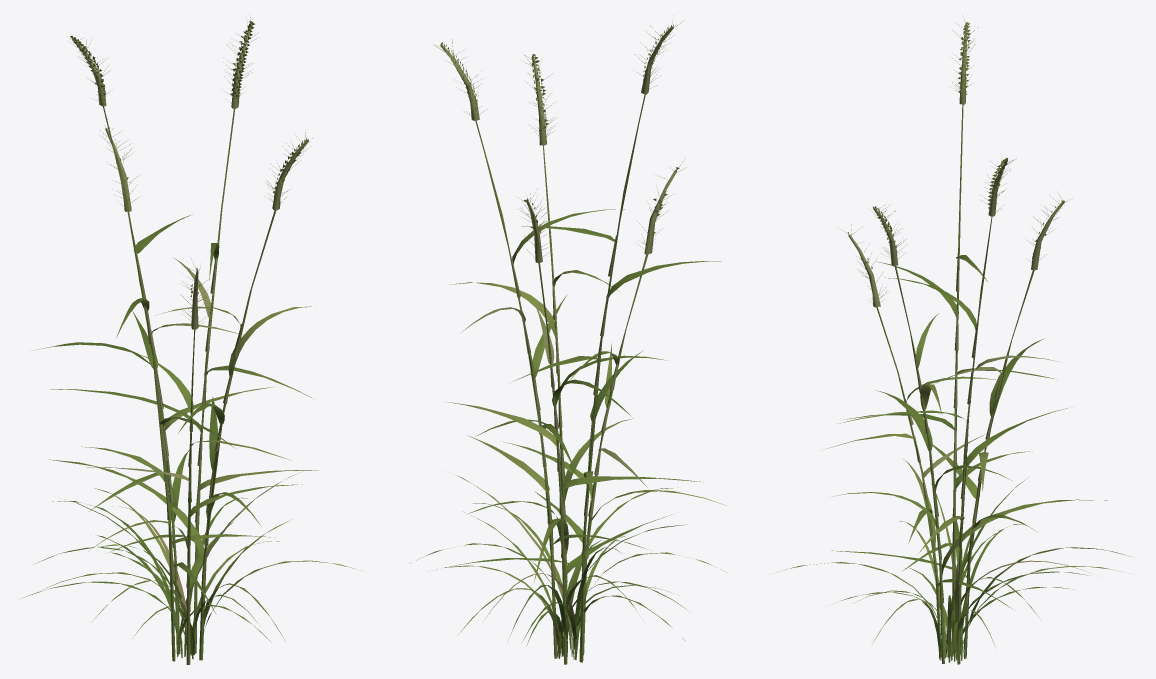
The model's file is green-foxtail.glb.
3 views of the same model, side by side, from view 1: azimuth 30°, elevation 25°; view 2: azimuth 150°, elevation 25°; view 3: azimuth 270°, elevation 25° (orthographic). The views are drawn at different scales.
Visible parts, largest first — view 1: Culms • Leaf green, Blades • Leaf green, Blades • Leaf forest, Blades • Leaf young, Leaf sheaths • Leaf olive, Blades • Leaf shaded, Seed rachis • Leaf olive, Seedlets • Leaf young, Blades • Leaf olive, Bristles • Leaf olive; view 2: Culms • Leaf green, Blades • Leaf forest, Blades • Leaf green, Blades • Leaf young, Leaf sheaths • Leaf olive, Seed rachis • Leaf olive, Blades • Leaf shaded, Blades • Leaf olive, Seedlets • Leaf young, Bristles • Leaf olive; view 3: Culms • Leaf green, Blades • Leaf forest, Blades • Leaf green, Leaf sheaths • Leaf olive, Blades • Leaf young, Blades • Leaf shaded, Seed rachis • Leaf olive, Seedlets • Leaf young, Blades • Leaf olive, Bristles • Leaf olive.
Part boxes in pixels (x1,y1,x2,y2): Culms • Leaf green: (103,106,276,664); Blades • Leaf green: (50,306,355,658); Blades • Leaf forest: (21,214,247,656); Blades • Leaf young: (88,306,318,658); Leaf sheaths • Leaf olive: (135,246,242,612); Blades • Leaf shaded: (34,342,257,658); Seed rachis • Leaf olive: (72,23,308,329); Seedlets • Leaf young: (70,21,308,312); Blades • Leaf olive: (87,258,300,656); Bristles • Leaf olive: (68,14,312,325); Culms • Leaf green: (475,94,648,664); Blades • Leaf forest: (409,209,721,657); Blades • Leaf green: (464,270,703,659); Blades • Leaf young: (436,282,726,658); Leaf sheaths • Leaf olive: (511,235,618,601); Seed rachis • Leaf olive: (440,27,676,262); Blades • Leaf shaded: (475,351,642,656); Blades • Leaf olive: (456,305,647,659); Seedlets • Leaf young: (440,24,679,239); Bristles • Leaf olive: (434,15,686,257); Culms • Leaf green: (876,104,1034,664); Blades • Leaf forest: (831,255,1072,661); Blades • Leaf green: (777,313,1107,662); Leaf sheaths • Leaf olive: (904,251,1003,608); Blades • Leaf young: (826,384,1122,660); Blades • Leaf shaded: (843,339,1130,659); Seed rachis • Leaf olive: (848,25,1064,307); Seedlets • Leaf young: (847,22,1063,269); Blades • Leaf olive: (923,355,1060,628); Bristles • Leaf olive: (838,19,1072,303).
Size of the model in its own units: 0.2993 by 0.6495 by 0.3749.
